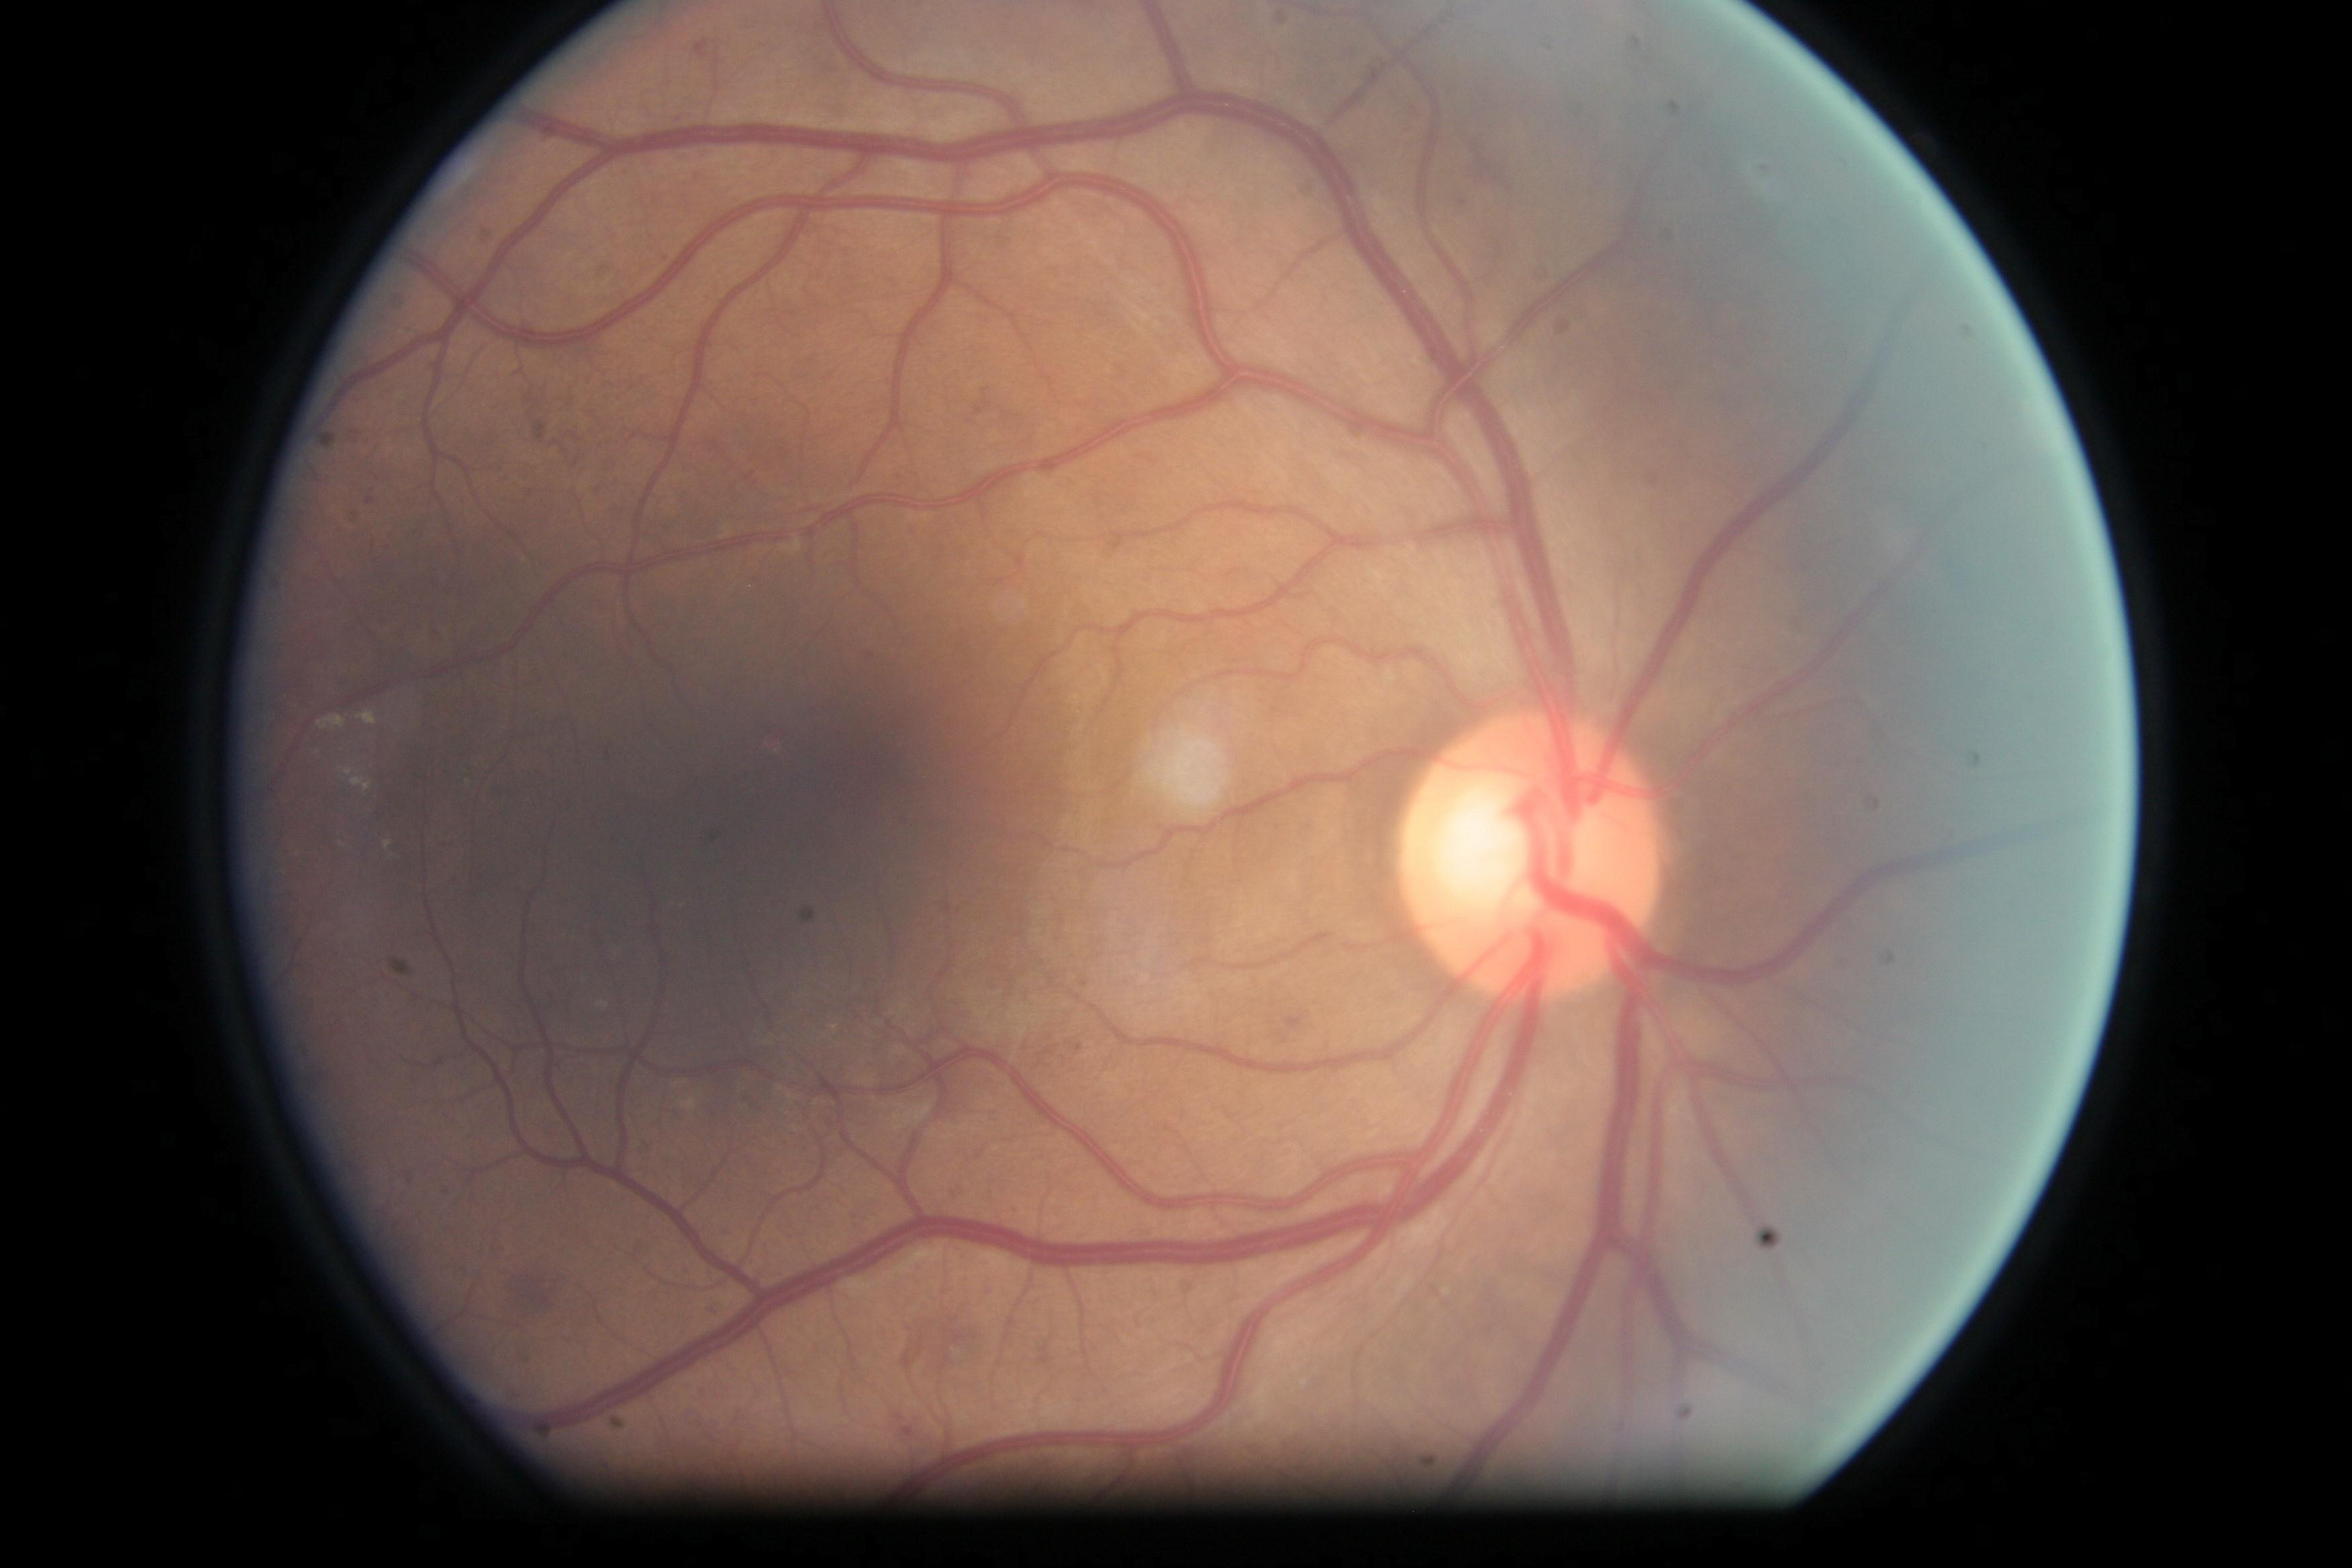Optic-nerve: (1391, 704, 1666, 1012)
macula: (450, 488, 1039, 1053)
